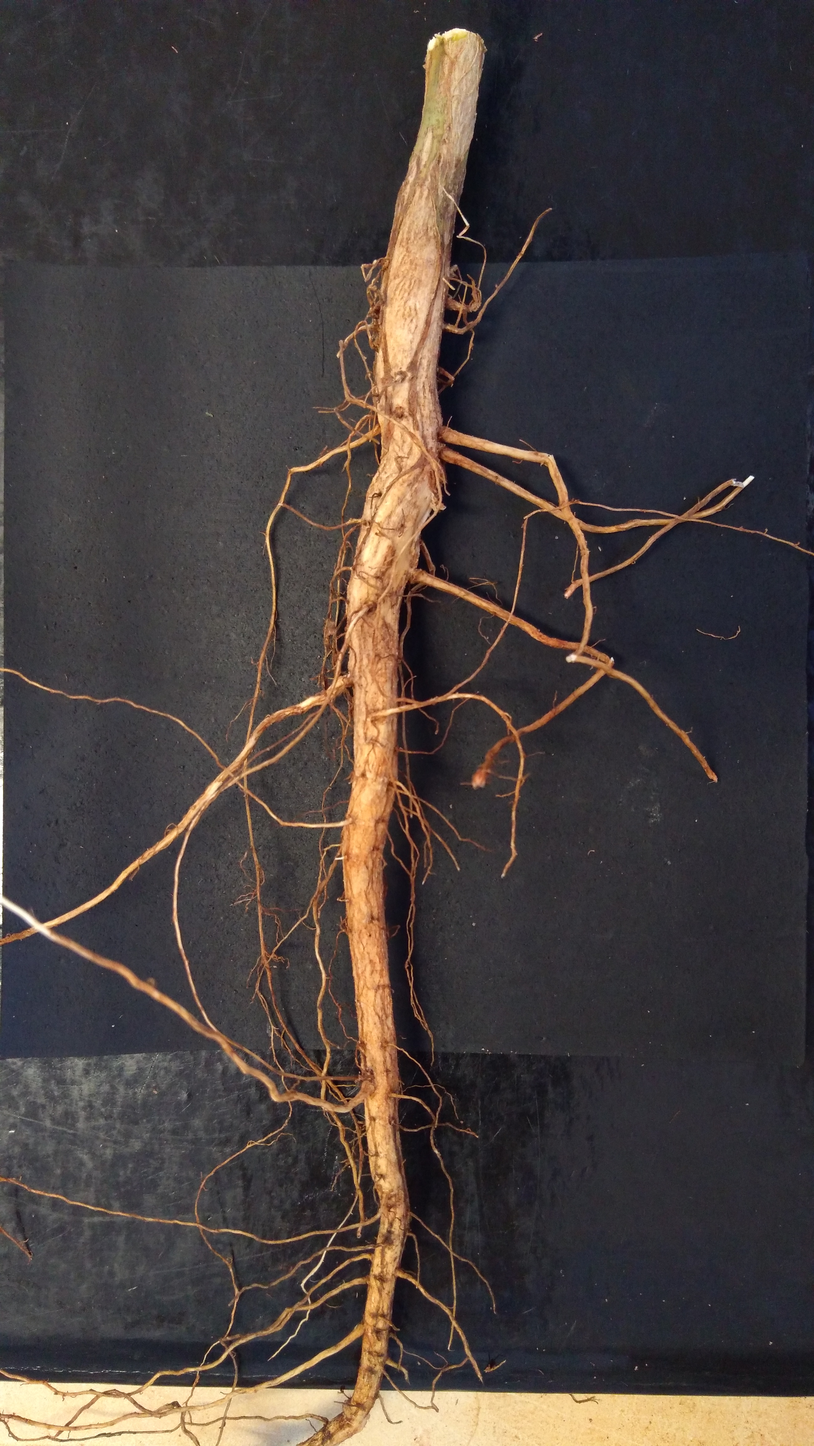nodule: (445, 296, 462, 311), (324, 618, 336, 638), (367, 304, 382, 319), (372, 257, 390, 269), (368, 331, 380, 348), (342, 1399, 351, 1419), (368, 283, 378, 291)
